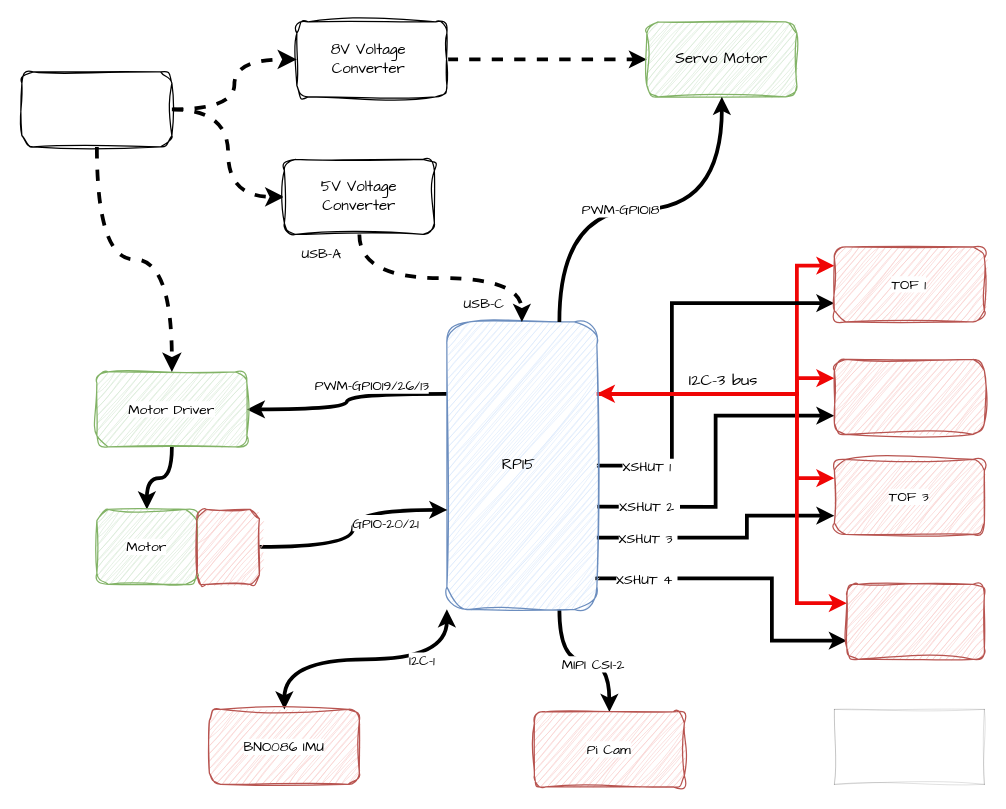
This 1006x809 diagram has some shape labels left out. Here are the shapes that lost their labels. From the top down, the box of each, then its label:
(21, 71, 172, 147): Battery
(833, 358, 984, 434): TOF 2
(196, 508, 259, 584): Encoder
(846, 583, 984, 659): TOF 4
(834, 709, 984, 784): Legend - - - - > Power Path ----------> Data Path
